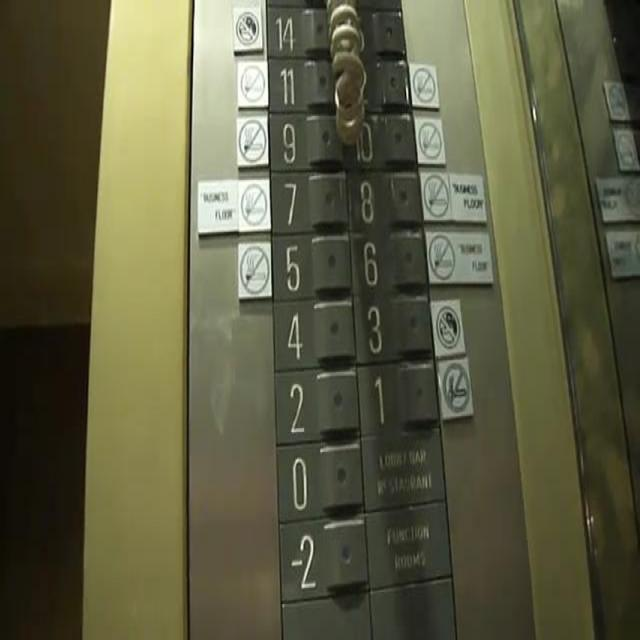-2: (277, 509, 368, 604)
0: (274, 437, 366, 523)
1: (355, 356, 440, 437)
10: (344, 111, 418, 169)
11: (265, 53, 343, 112)
14: (265, 0, 340, 57)
2: (271, 362, 360, 446)
3: (350, 292, 436, 364)
4: (270, 295, 356, 372)
5: (269, 228, 353, 301)
6: (347, 227, 426, 293)
7: (268, 168, 350, 233)
8: (345, 168, 425, 231)
9: (266, 109, 344, 172)
blur: (344, 54, 412, 110), (342, 5, 405, 58)
